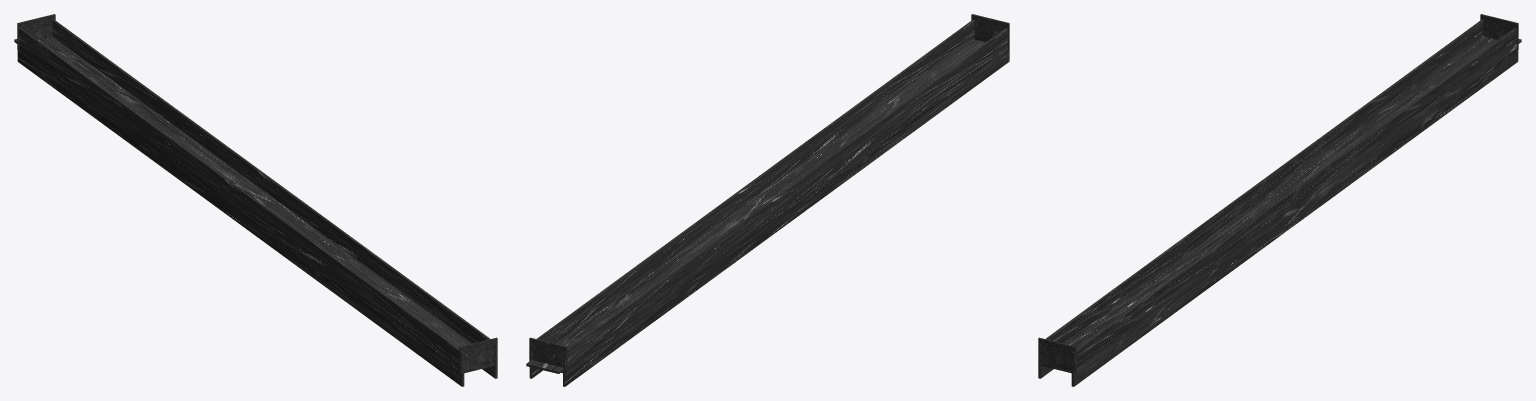
3 renders of one model, left to right at view 1: azimuth 30°, elevation 25°; view 2: azimuth 150°, elevation 25°; view 3: azimuth 330°, elevation 25°, orthographic.
Parts seen in each view (by area): view 1: Cube.002; view 2: Cube.002; view 3: Cube.002.
Boxes of the visible parts, bbox=[...] form: Cube.002: bbox=[14, 14, 497, 386]; Cube.002: bbox=[526, 14, 1009, 386]; Cube.002: bbox=[1038, 14, 1521, 386].
Size of the model in its own units: 4.49 by 4.51 by 93.48.
1 material, 1 textured.
